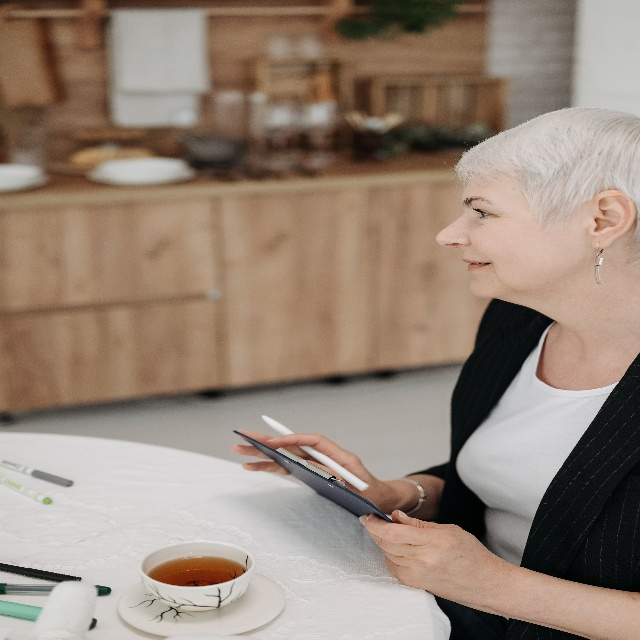Sin_guantes: (358, 495, 483, 609), (231, 421, 382, 515)
